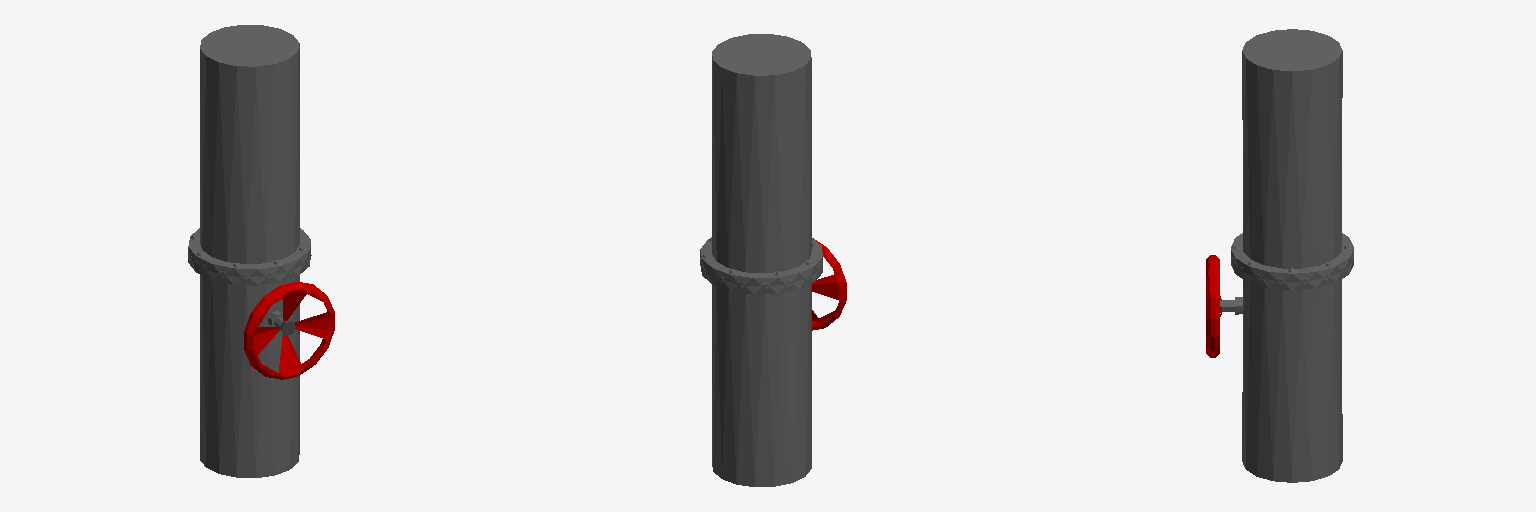
The model's file is intersecao.obj.
3 views of the same model, side by side, from view 1: azimuth 30°, elevation 25°; view 2: azimuth 150°, elevation 25°; view 3: azimuth 270°, elevation 25° (orthographic).
Parts seen in each view (by area): view 1: Cano1, Cylinder.001, Valvula; view 2: Cano1, Cylinder.001, Valvula; view 3: Cano1, Cylinder.001, Valvula.
Boxes of the visible parts, x1=… form: Cano1: x1=188, y1=25, x2=311, y2=279; Cylinder.001: x1=188, y1=252, x2=310, y2=477; Valvula: x1=244, y1=281, x2=334, y2=379; Cano1: x1=700, y1=34, x2=822, y2=289; Cylinder.001: x1=700, y1=256, x2=823, y2=486; Valvula: x1=812, y1=238, x2=846, y2=330; Cano1: x1=1231, y1=29, x2=1353, y2=284; Cylinder.001: x1=1231, y1=258, x2=1353, y2=482; Valvula: x1=1206, y1=255, x2=1242, y2=357.
Size of the model in its own units: 2.46 by 9.03 by 2.96.